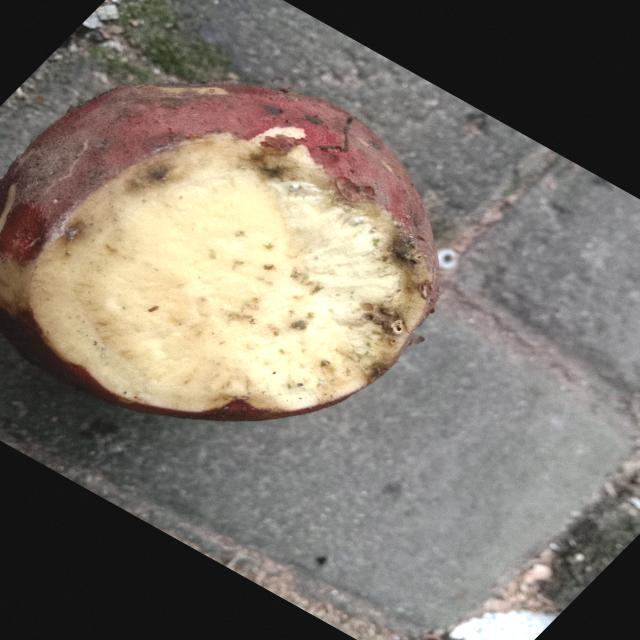Sick Sweet Potato_Tuber Rot: (30, 135, 428, 412)
